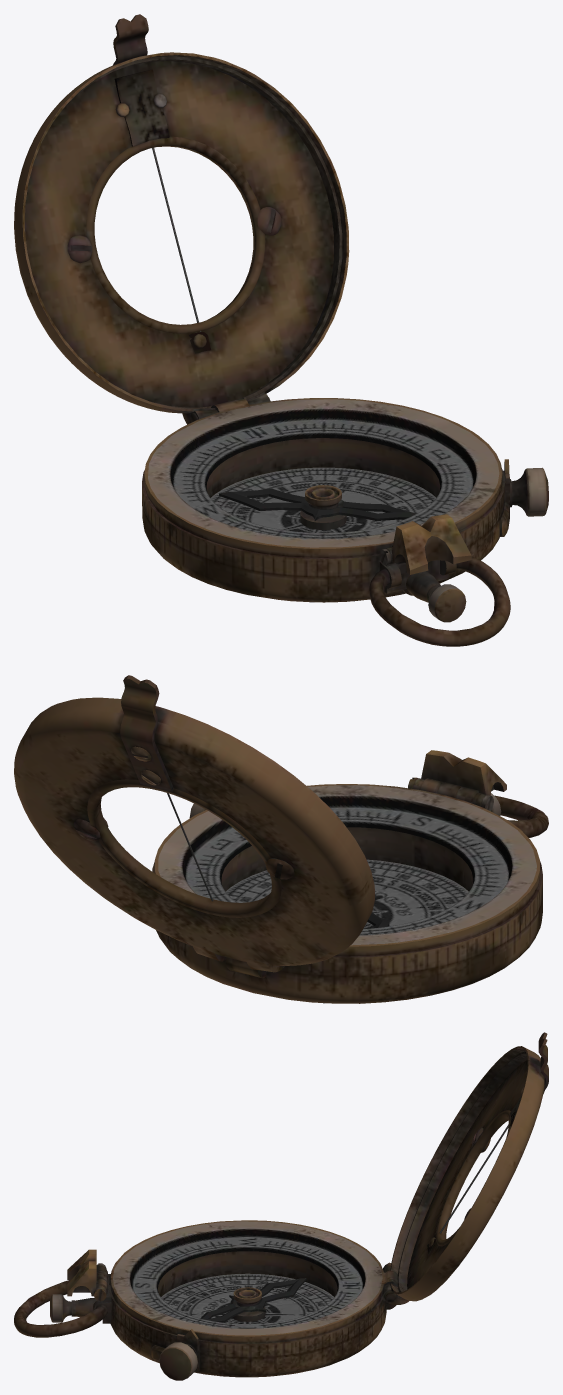
The model's file is seadogs_compass.aca6a8b8.glb.
3 views of the same model, one above another, from view 1: azimuth 30°, elevation 25°; view 2: azimuth 150°, elevation 25°; view 3: azimuth 270°, elevation 25° (orthographic). The views are drawn at different scales.
Visible parts, largest first — view 1: seadogs_compass_lid, seadogs_compass, seadogs_compass_needle; view 2: seadogs_compass_lid, seadogs_compass; view 3: seadogs_compass, seadogs_compass_lid, seadogs_compass_needle.
Boxes of the visible parts, box(x1,y1,x2,y2) form: seadogs_compass_lid: box(14, 14, 349, 424); seadogs_compass: box(142, 398, 548, 646); seadogs_compass_needle: box(219, 488, 415, 520); seadogs_compass_lid: box(14, 675, 374, 972); seadogs_compass: box(152, 750, 548, 1003); seadogs_compass: box(14, 1220, 397, 1380); seadogs_compass_lid: box(382, 1032, 548, 1305); seadogs_compass_needle: box(200, 1278, 306, 1322).
Size of the model in its own units: 0.4061 by 0.4327 by 0.72.
Materials: 1 (1 with a texture image).
